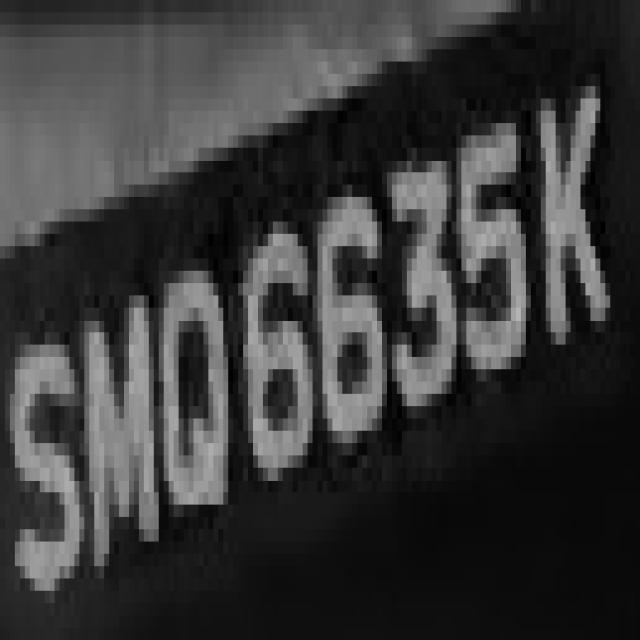3: (377, 123, 452, 443)
5: (451, 99, 531, 443)
6: (312, 135, 397, 492), (248, 197, 318, 505)
K: (516, 37, 620, 394)
M: (79, 258, 159, 578)
Q: (159, 246, 233, 542)
S: (10, 320, 74, 628)
